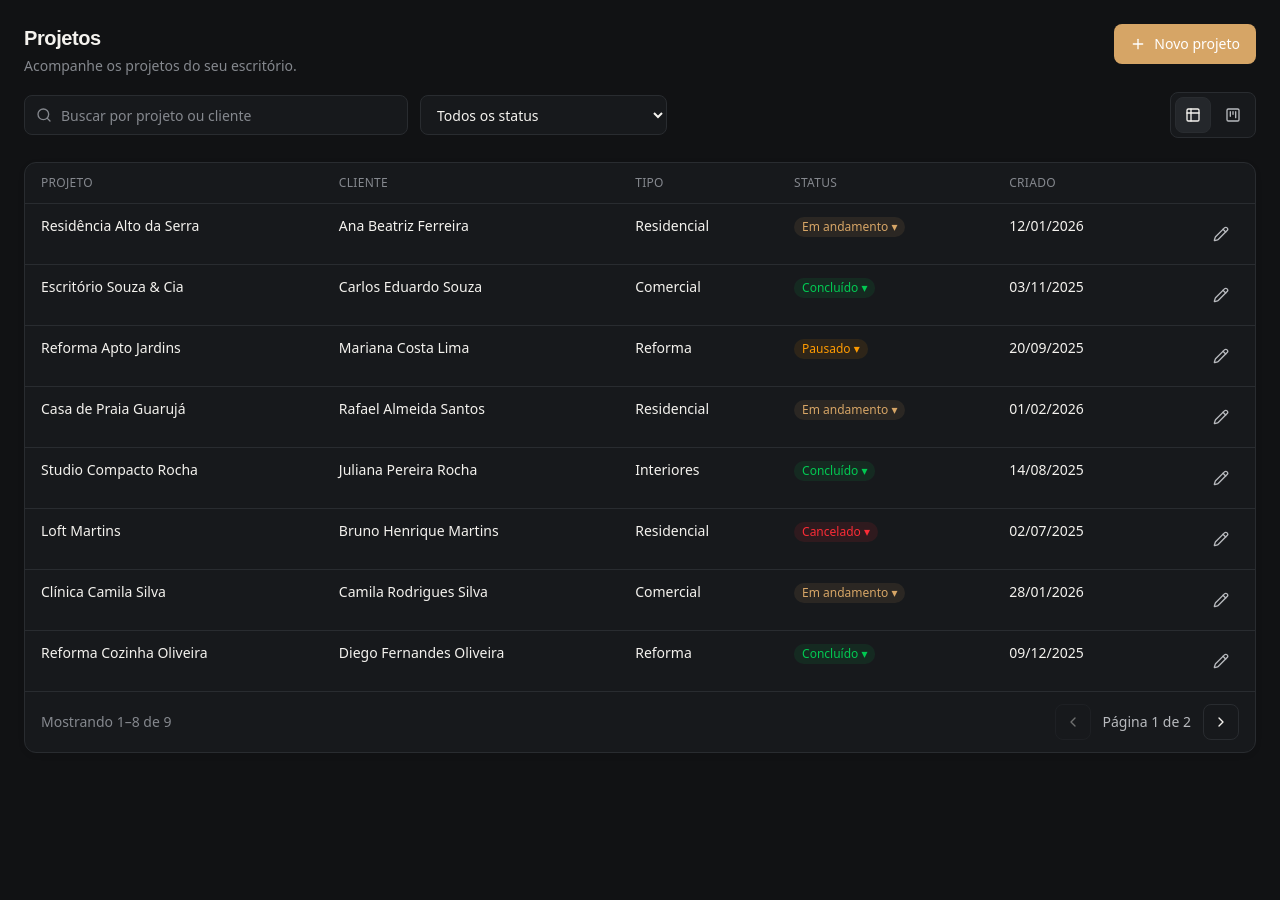
Test: ProjectsPage › paginates to the next page
Expected: the link "Residência Alto da Serra" is shown, [41, 216, 200, 235]
Click the button named "Próxima página": {"x": 1221, "y": 722} [1203, 704, 1239, 740]
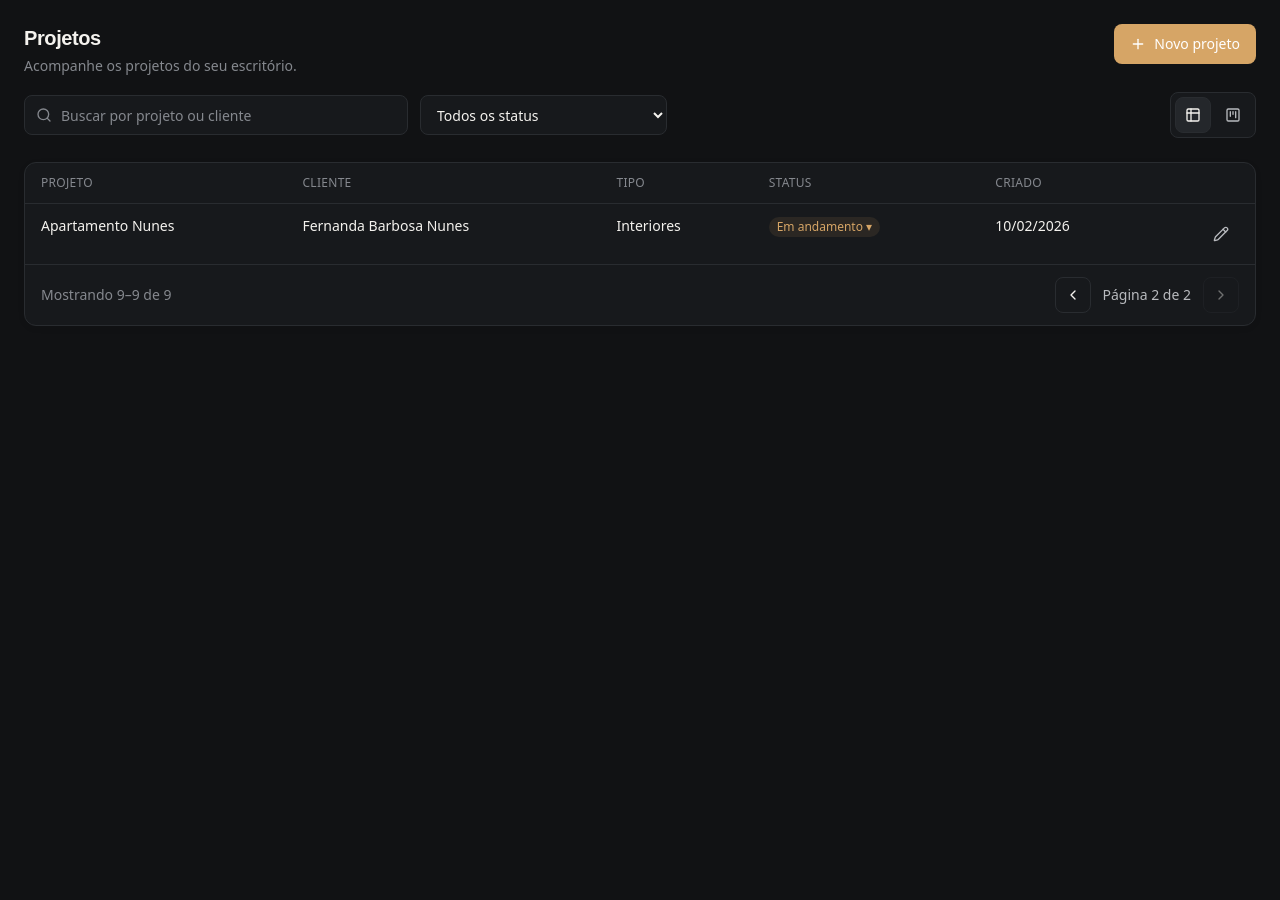
Expected: the link "Residência Alto da Serra" is gone
